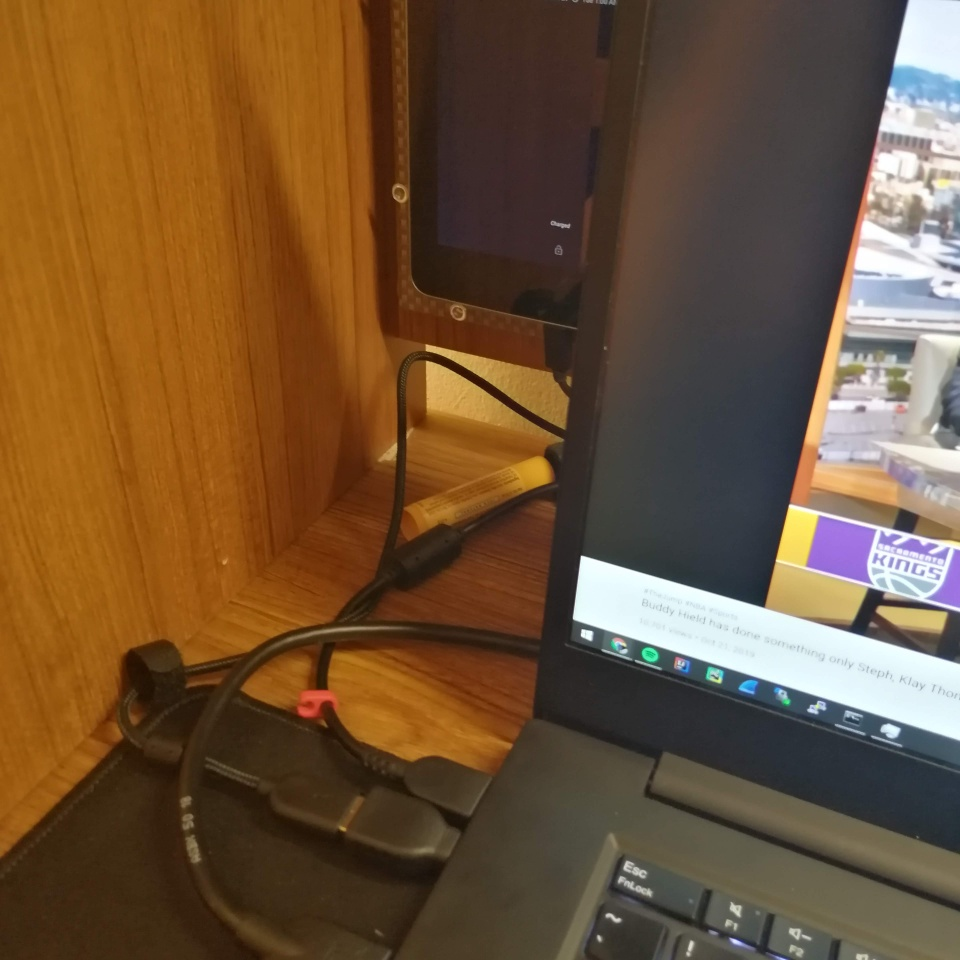chapstick: (394, 451, 557, 551)
